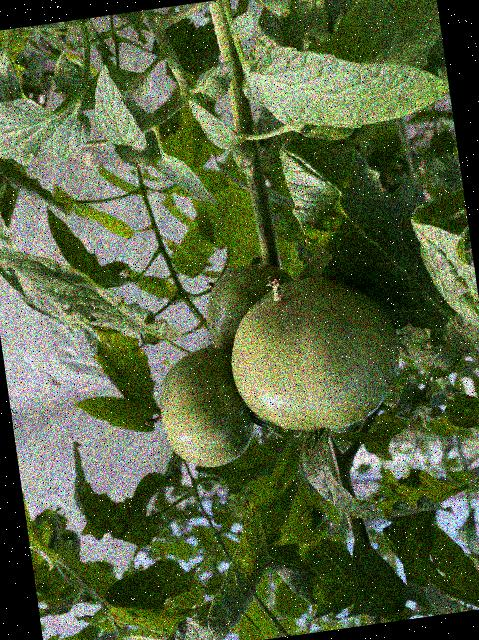b_green: (222, 267, 410, 442), (152, 342, 262, 473), (200, 259, 302, 355)
